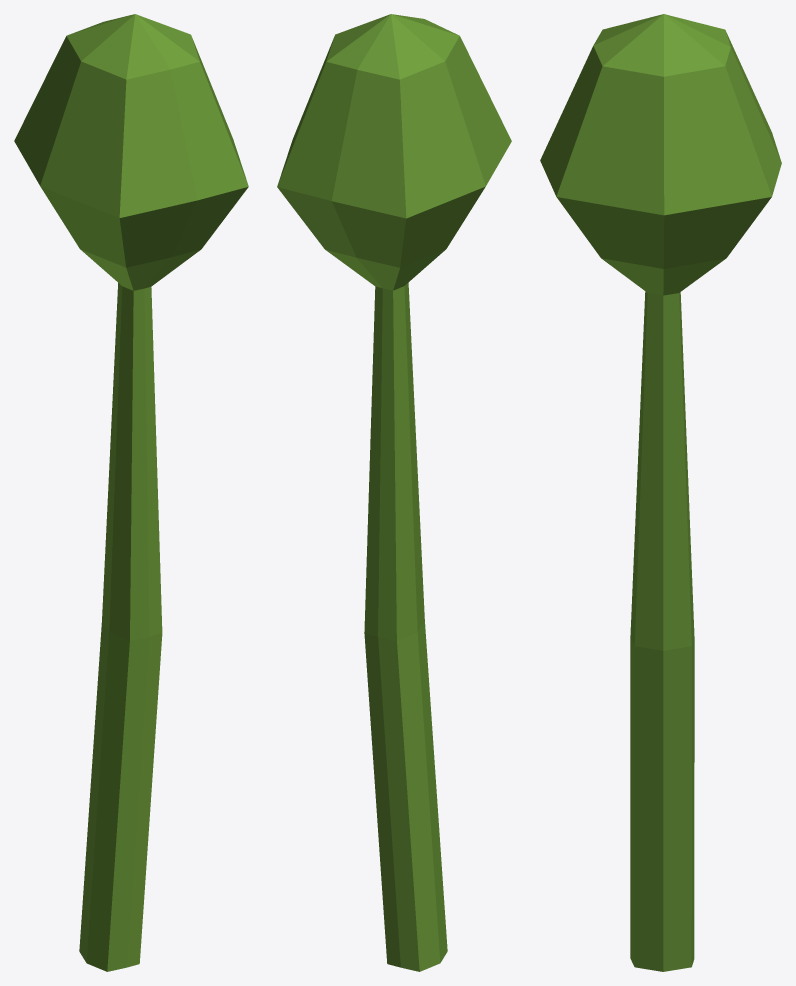
The model's file is SunHairEagleStage1.fbx.
3 views of the same model, side by side, from view 1: azimuth 30°, elevation 25°; view 2: azimuth 150°, elevation 25°; view 3: azimuth 270°, elevation 25° (orthographic). The views are drawn at different scales.
Parts seen in each view (by area): view 1: Cylinder.009; view 2: Cylinder.009; view 3: Cylinder.009.
Part boxes in pixels (x1,y1,x2,y2): Cylinder.009: [14, 14, 248, 971]; Cylinder.009: [277, 14, 511, 971]; Cylinder.009: [540, 14, 781, 971].
Bounding box in the file's own units: 18.34 × 85.04 × 19.45.
